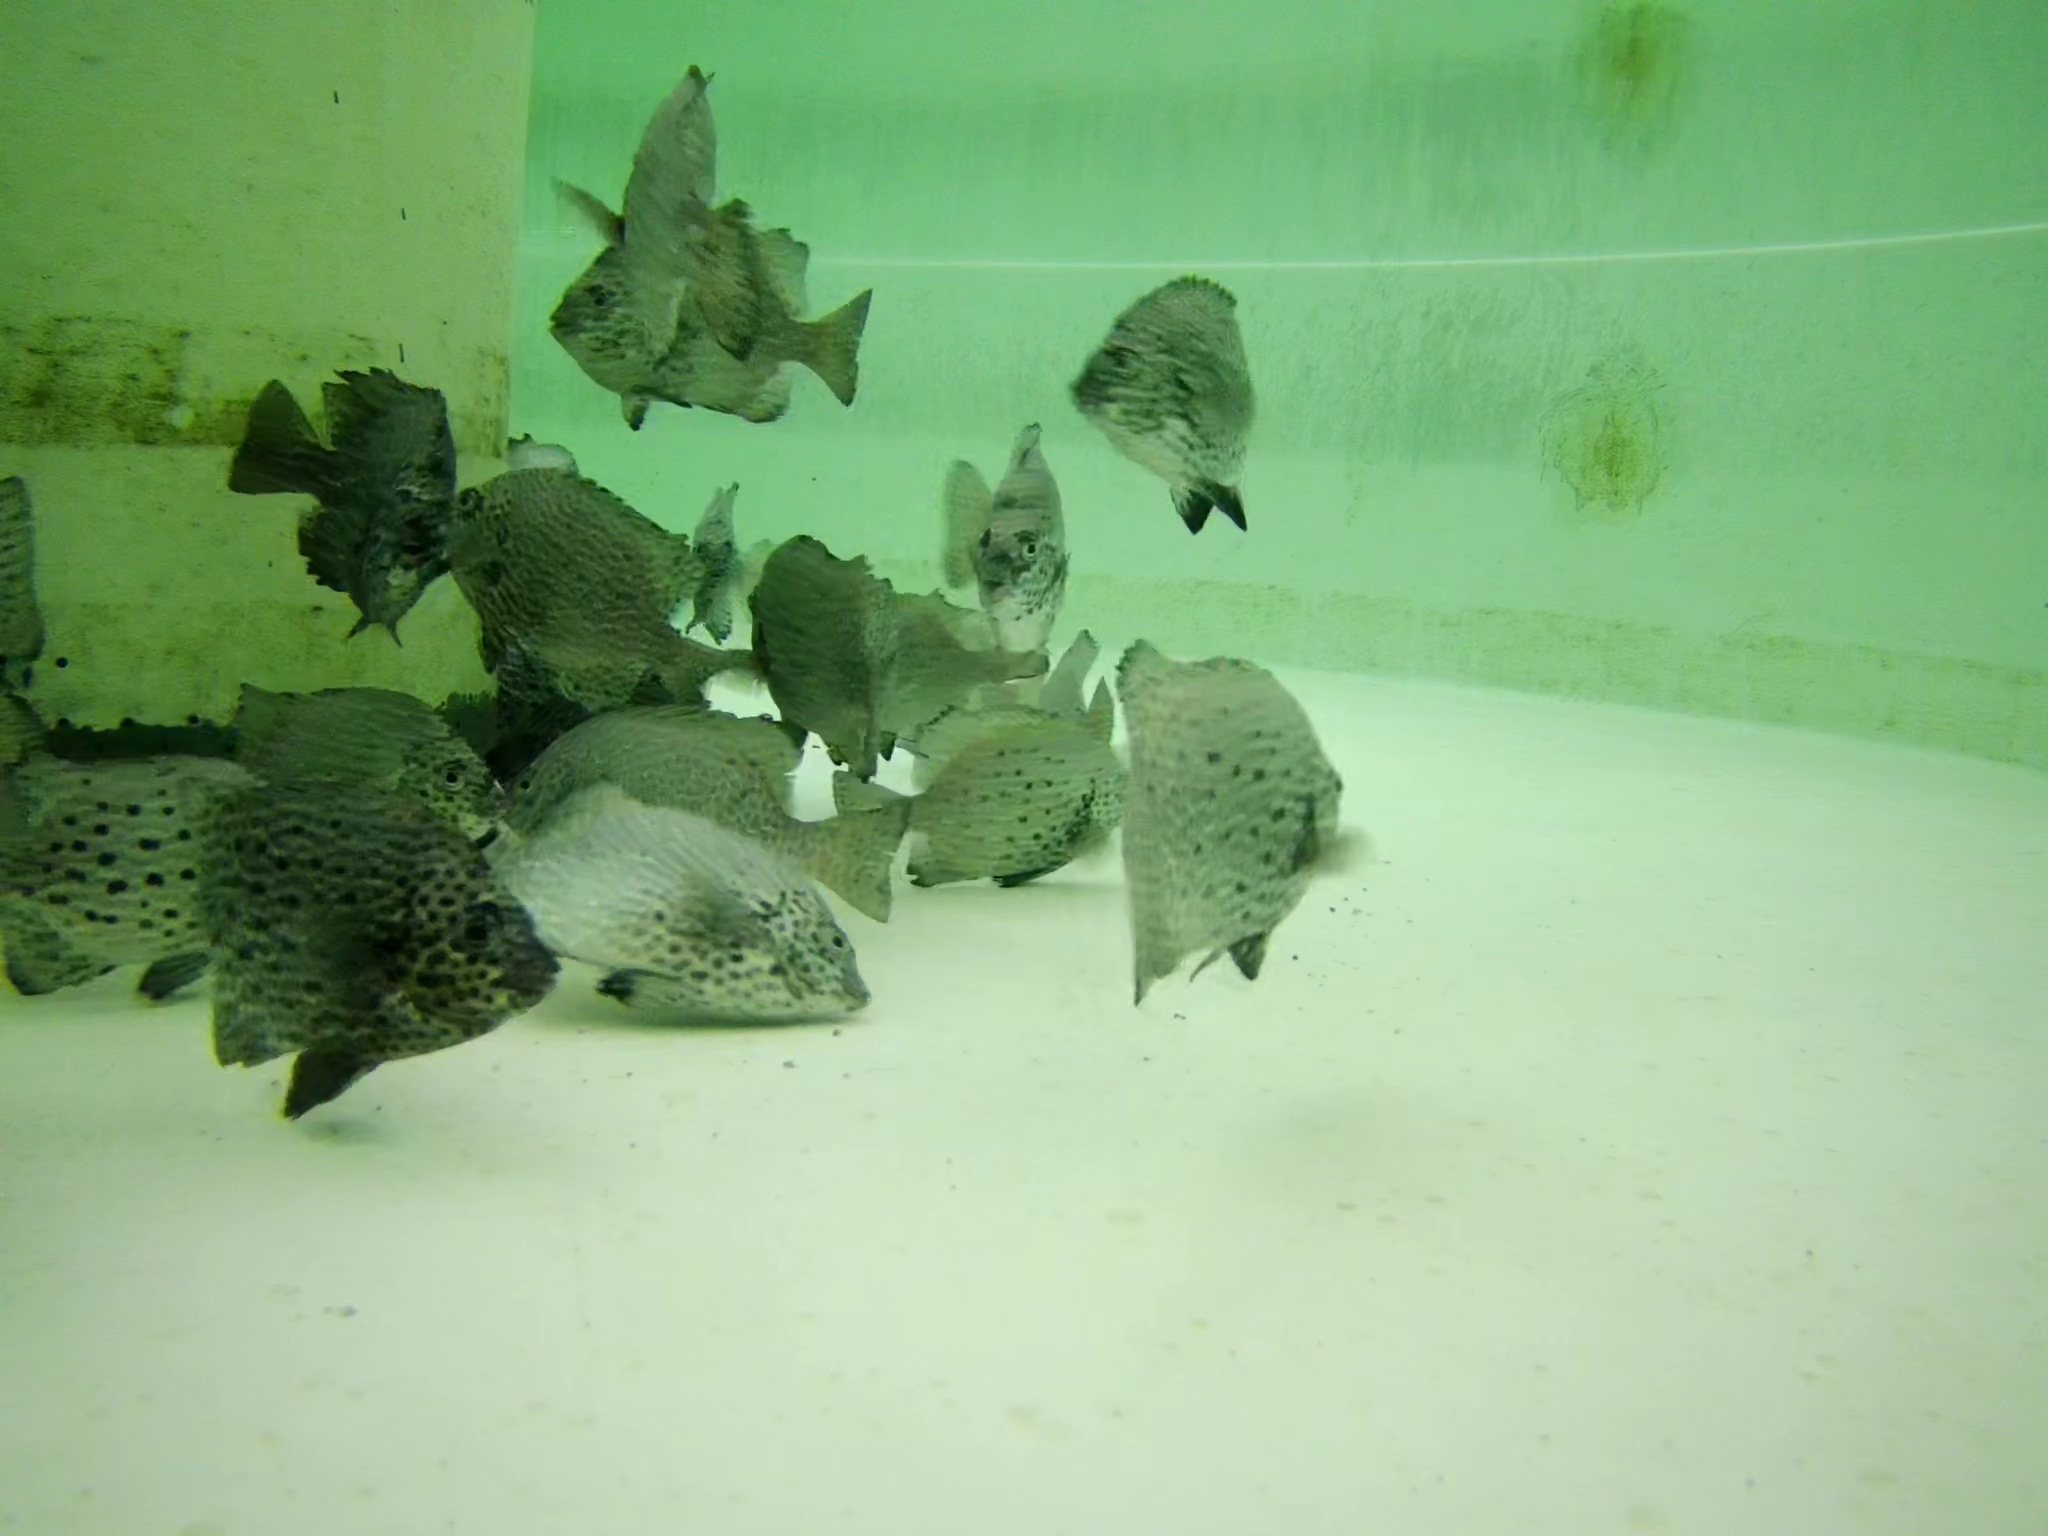fish: (198, 791, 558, 1100), (527, 708, 916, 931), (27, 729, 332, 1007), (1105, 644, 1356, 978), (506, 787, 855, 1023), (426, 442, 743, 657), (826, 708, 1130, 891), (237, 350, 439, 620), (540, 231, 818, 423), (1072, 269, 1268, 536), (750, 544, 993, 733), (232, 674, 498, 842), (577, 58, 710, 344), (695, 223, 880, 410), (951, 434, 1071, 660)
